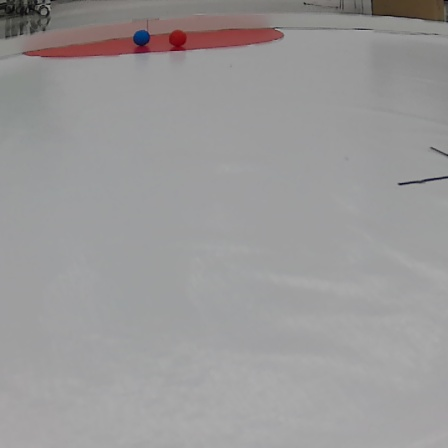blue: (131, 27, 154, 44)
red: (169, 30, 190, 46)
red_base: (25, 26, 297, 53)
